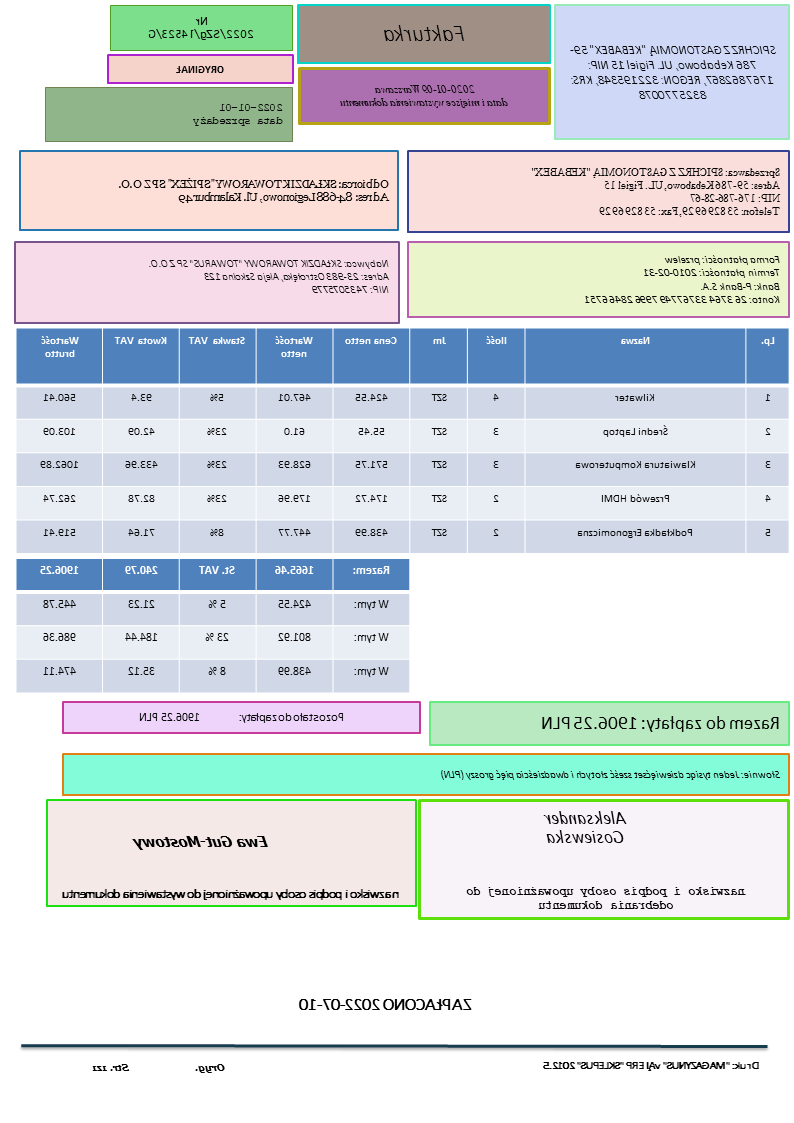Table: (15, 327, 791, 555), (16, 558, 411, 693)
TextBox: (528, 163, 783, 219), (568, 41, 782, 104), (582, 252, 784, 306), (147, 256, 393, 296), (118, 175, 394, 205), (466, 883, 748, 912), (61, 886, 403, 903), (540, 712, 782, 734), (338, 82, 510, 110), (439, 767, 782, 781), (297, 994, 476, 1015), (539, 808, 629, 847), (541, 1058, 764, 1073), (130, 831, 271, 854), (146, 13, 257, 42), (139, 709, 346, 724), (191, 100, 285, 129), (89, 1060, 229, 1075), (382, 23, 468, 46), (174, 62, 228, 75)
